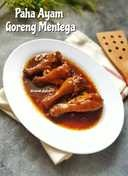ayam_goreng: (50, 90, 106, 124)
